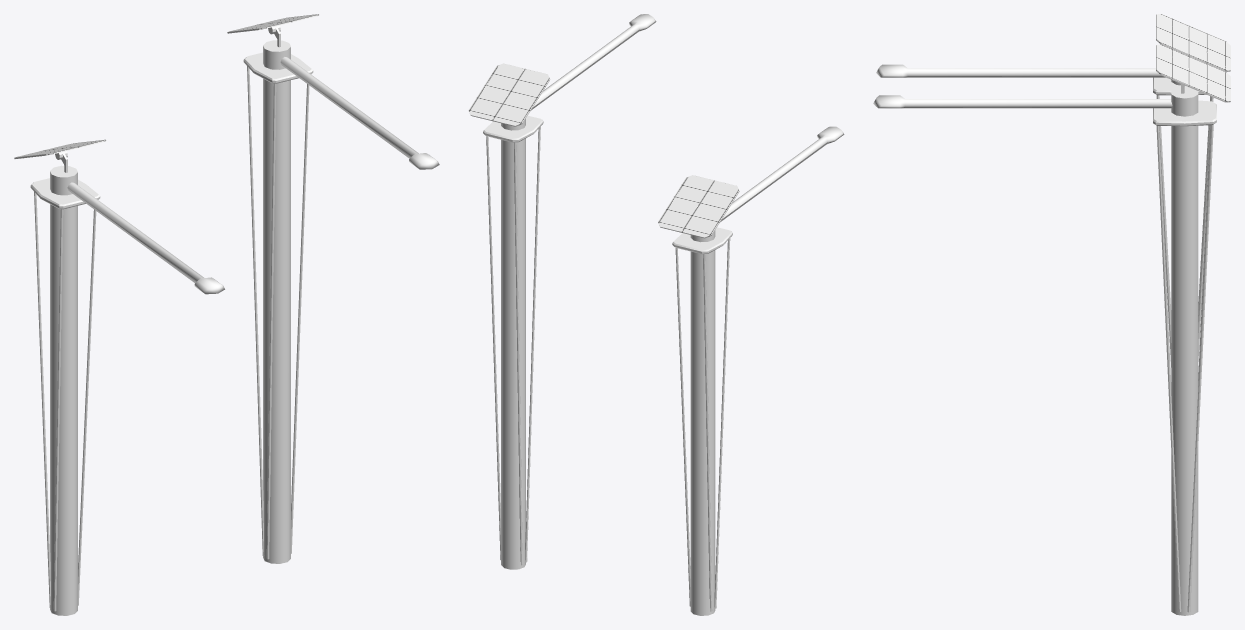
Rendered from let_8.FBX.
The picture shows the model from 3 angles, left to right: view 1: azimuth 30°, elevation 25°; view 2: azimuth 150°, elevation 25°; view 3: azimuth 270°, elevation 25°; orthographic projection. The views are drawn at different scales.
Visible parts, largest first — view 1: Line012, Line011; view 2: Line012, Line011; view 3: Line012, Line011.
Boxes of the visible parts, bbox=[...] form: Line012: bbox=[227, 14, 439, 563]; Line011: bbox=[14, 139, 224, 615]; Line012: bbox=[468, 14, 656, 569]; Line011: bbox=[658, 126, 844, 615]; Line012: bbox=[873, 44, 1230, 615]; Line011: bbox=[876, 14, 1230, 367].
Bounding box in the file's own units: 4.76 × 9.11 × 5.34.
